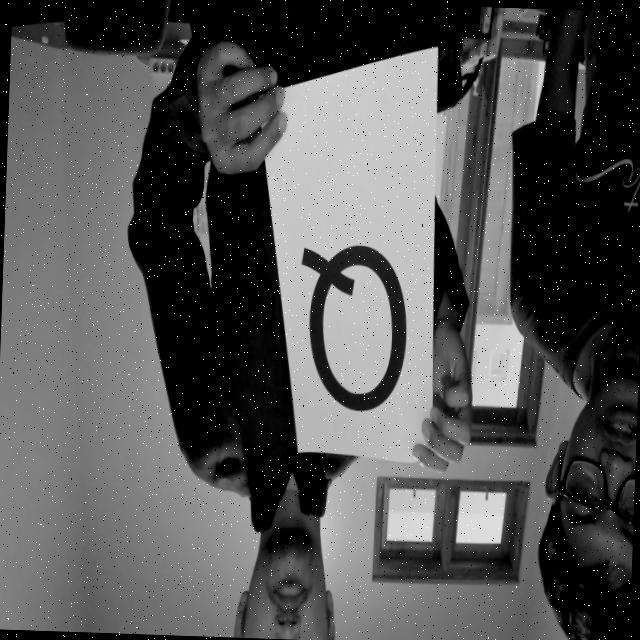q: (280, 221, 417, 421)
